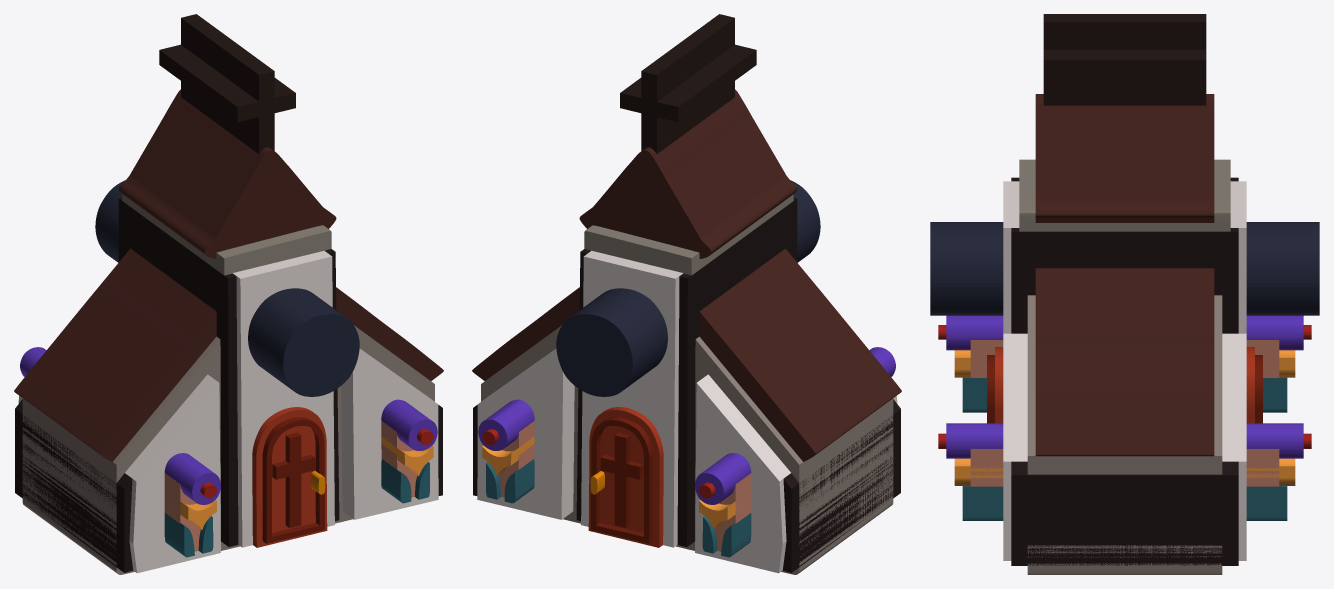
3 renders of one model, left to right at view 1: azimuth 30°, elevation 25°; view 2: azimuth 150°, elevation 25°; view 3: azimuth 270°, elevation 25°, orthographic. The views are drawn at different scales.
Parts seen in each view (by area): view 1: U+26EA_layer01_obj00, U+26EA_layer01_obj02, U+26EA_layer02_obj00, U+26EA_layer05_obj02, U+26EA_layer14_obj00, U+26EA_layer04_obj01, U+26EA_layer00_obj00, U+26EA_layer05_obj01, U+26EA_layer05_obj00, U+26EA_layer04_obj00, U+26EA_layer06_obj00, U+26EA_layer03_obj00 (+11 smaller); view 2: U+26EA_layer01_obj00, U+26EA_layer01_obj02, U+26EA_layer02_obj00, U+26EA_layer05_obj02, U+26EA_layer14_obj00, U+26EA_layer04_obj01, U+26EA_layer00_obj00, U+26EA_layer05_obj01, U+26EA_layer05_obj00, U+26EA_layer04_obj00, U+26EA_layer06_obj00, U+26EA_layer03_obj00 (+11 smaller); view 3: U+26EA_layer01_obj01, U+26EA_layer01_obj02, U+26EA_layer04_obj02, U+26EA_layer00_obj00, U+26EA_layer14_obj00, U+26EA_layer04_obj01, U+26EA_layer02_obj00, U+26EA_layer05_obj00, U+26EA_layer03_obj00, U+26EA_layer12_obj03, U+26EA_layer05_obj02, U+26EA_layer12_obj04 (+8 smaller).
Boxes of the visible parts, <box> form: U+26EA_layer01_obj00: <box>14,248,216,461</box>; U+26EA_layer01_obj02: <box>118,89,336,258</box>; U+26EA_layer02_obj00: <box>22,325,434,574</box>; U+26EA_layer05_obj02: <box>232,250,334,547</box>; U+26EA_layer14_obj00: <box>95,180,359,396</box>; U+26EA_layer04_obj01: <box>118,197,339,546</box>; U+26EA_layer00_obj00: <box>159,14,295,153</box>; U+26EA_layer05_obj01: <box>18,374,220,573</box>; U+26EA_layer05_obj00: <box>341,348,438,519</box>; U+26EA_layer04_obj00: <box>15,399,133,572</box>; U+26EA_layer06_obj00: <box>252,407,327,547</box>; U+26EA_layer03_obj00: <box>122,194,331,275</box>; U+26EA_layer01_obj00: <box>699,248,901,461</box>; U+26EA_layer01_obj02: <box>579,89,797,258</box>; U+26EA_layer02_obj00: <box>481,325,893,574</box>; U+26EA_layer05_obj02: <box>581,250,683,547</box>; U+26EA_layer14_obj00: <box>556,180,820,396</box>; U+26EA_layer04_obj01: <box>576,197,797,546</box>; U+26EA_layer00_obj00: <box>620,14,756,153</box>; U+26EA_layer05_obj01: <box>695,374,897,573</box>; U+26EA_layer05_obj00: <box>477,348,574,519</box>; U+26EA_layer04_obj00: <box>782,399,900,572</box>; U+26EA_layer06_obj00: <box>588,407,663,547</box>; U+26EA_layer03_obj00: <box>584,194,793,275</box>; U+26EA_layer01_obj01: <box>1035,268,1214,456</box>; U+26EA_layer01_obj02: <box>1035,94,1214,222</box>; U+26EA_layer04_obj02: <box>1011,461,1238,565</box>; U+26EA_layer00_obj00: <box>1043,14,1206,105</box>; U+26EA_layer14_obj00: <box>930,222,1319,315</box>; U+26EA_layer04_obj01: <box>1011,177,1238,333</box>; U+26EA_layer02_obj00: <box>1027,295,1222,574</box>; U+26EA_layer05_obj00: <box>1003,333,1246,560</box>; U+26EA_layer03_obj00: <box>1019,159,1230,231</box>; U+26EA_layer12_obj03: <box>946,423,1303,458</box>; U+26EA_layer05_obj02: <box>1003,181,1246,333</box>; U+26EA_layer12_obj04: <box>946,315,1303,350</box>.
Bounding box in the file's own units: 0.2537 × 0.3239 × 0.24.
